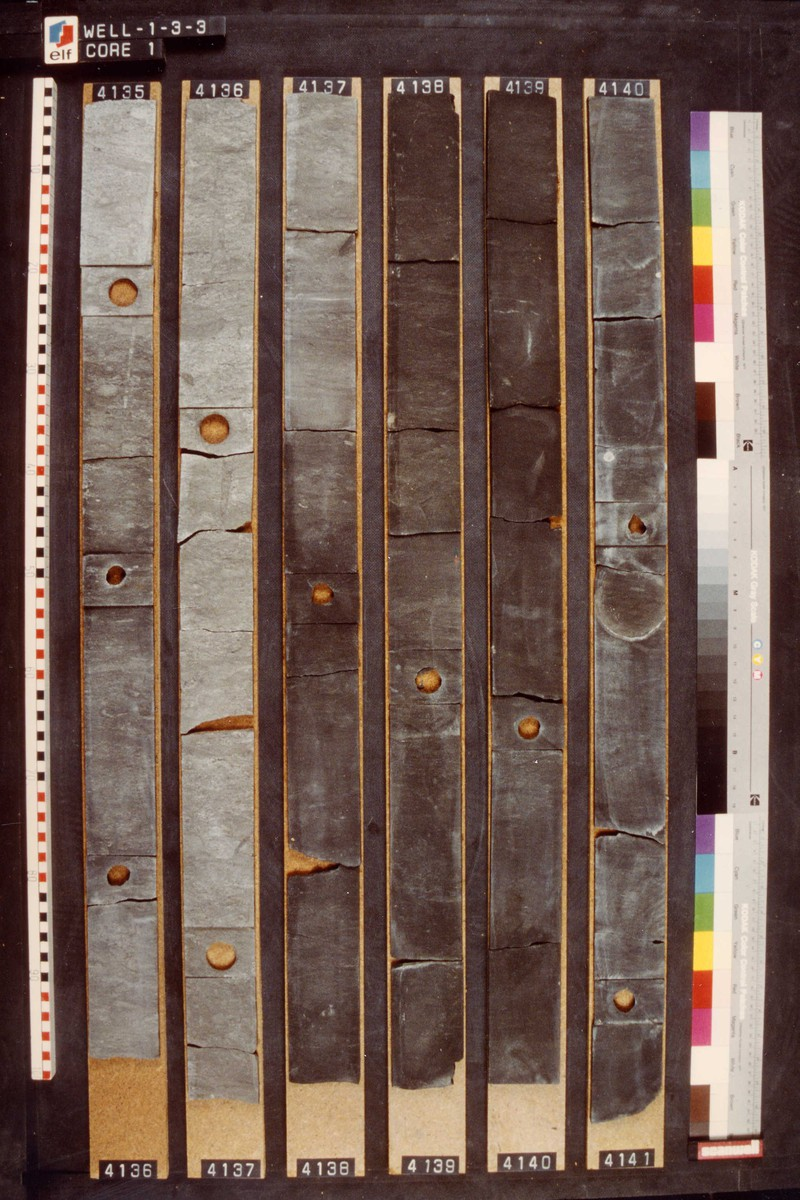core: (586, 95, 665, 1121), (384, 93, 465, 1089), (484, 92, 563, 1087), (182, 100, 256, 1103), (286, 94, 360, 1088), (83, 101, 158, 1063)
